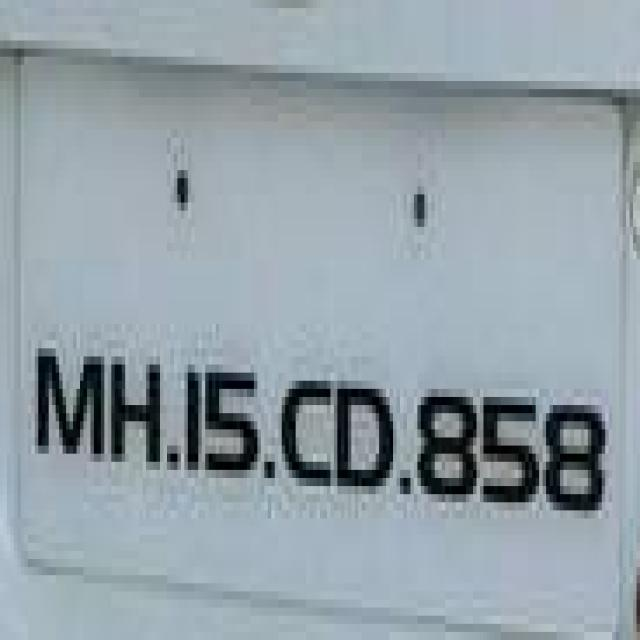license_plate: (21, 81, 640, 600)
